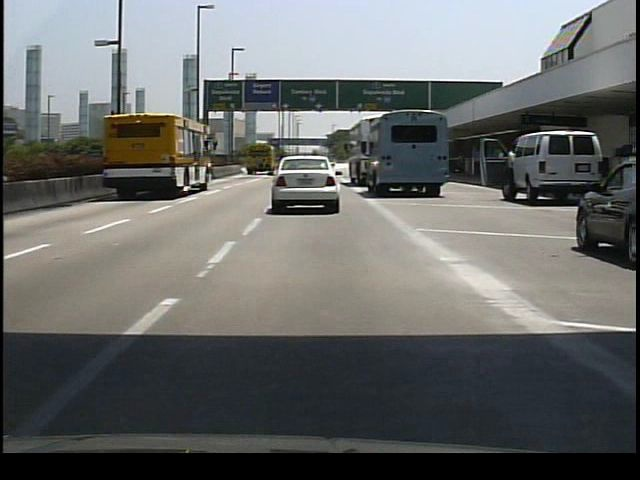person: (502, 137, 520, 210)
